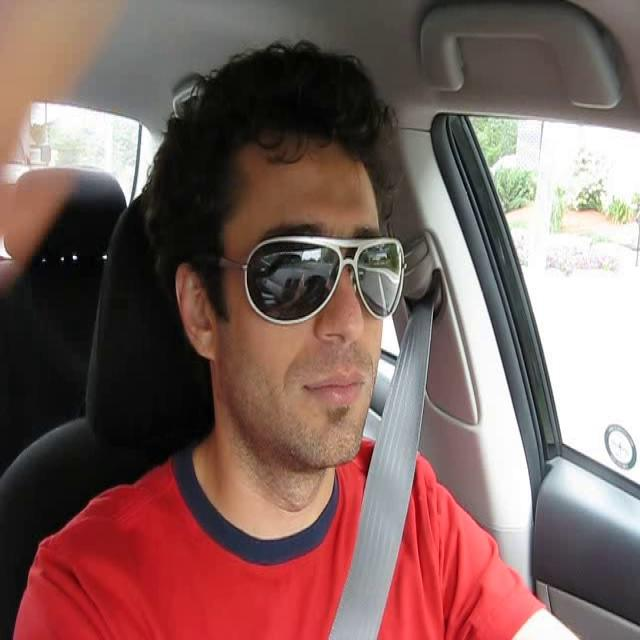close: (298, 365, 372, 406)
